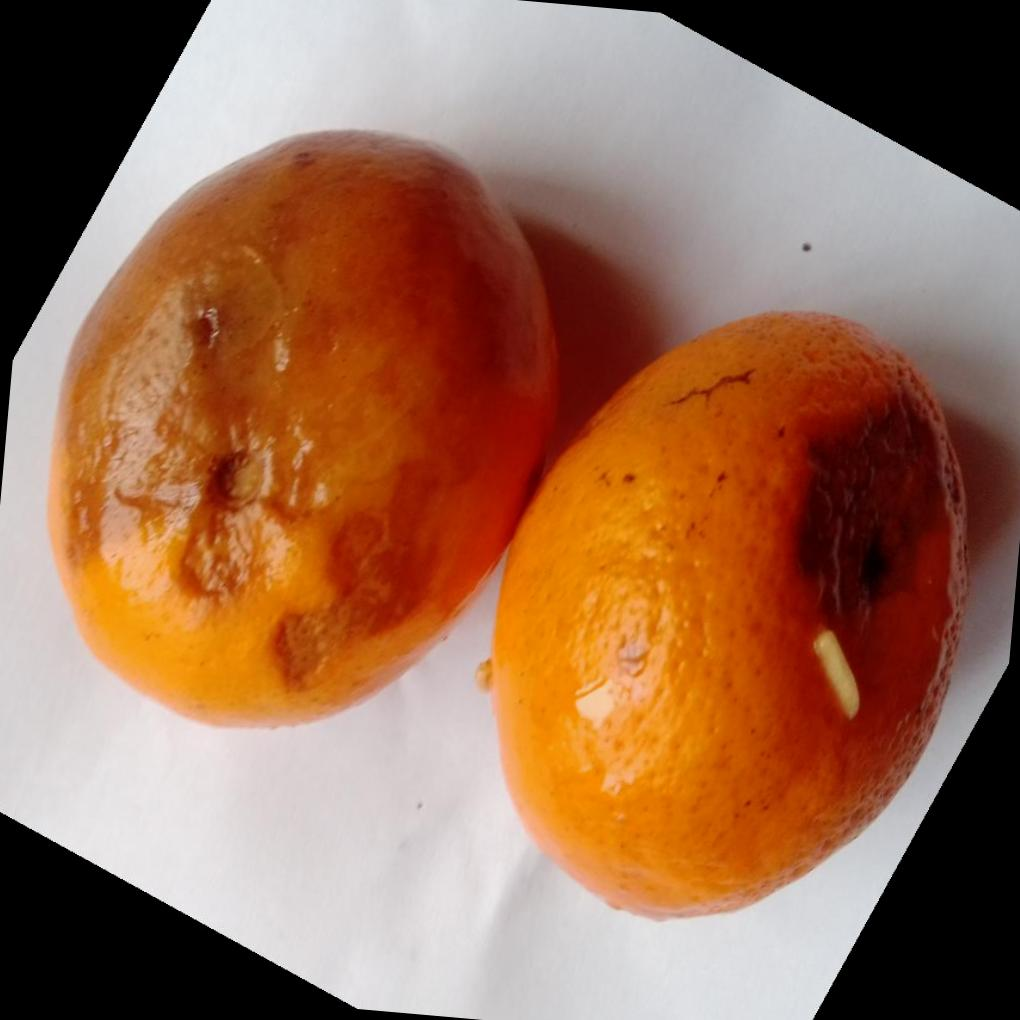FreshOrange: (43, 122, 976, 919)
